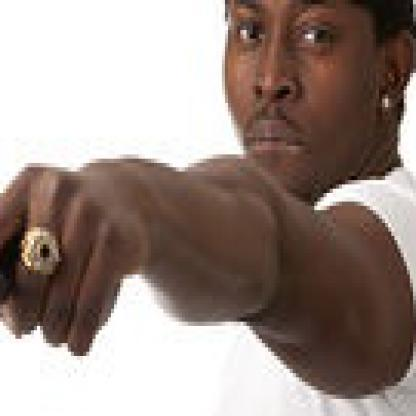gun: (0, 180, 99, 335)
